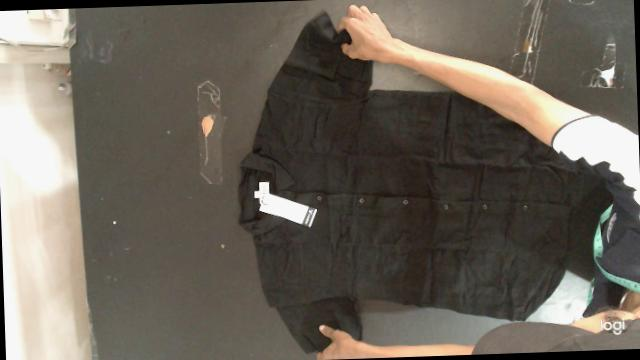new-garment: (239, 13, 600, 352)
